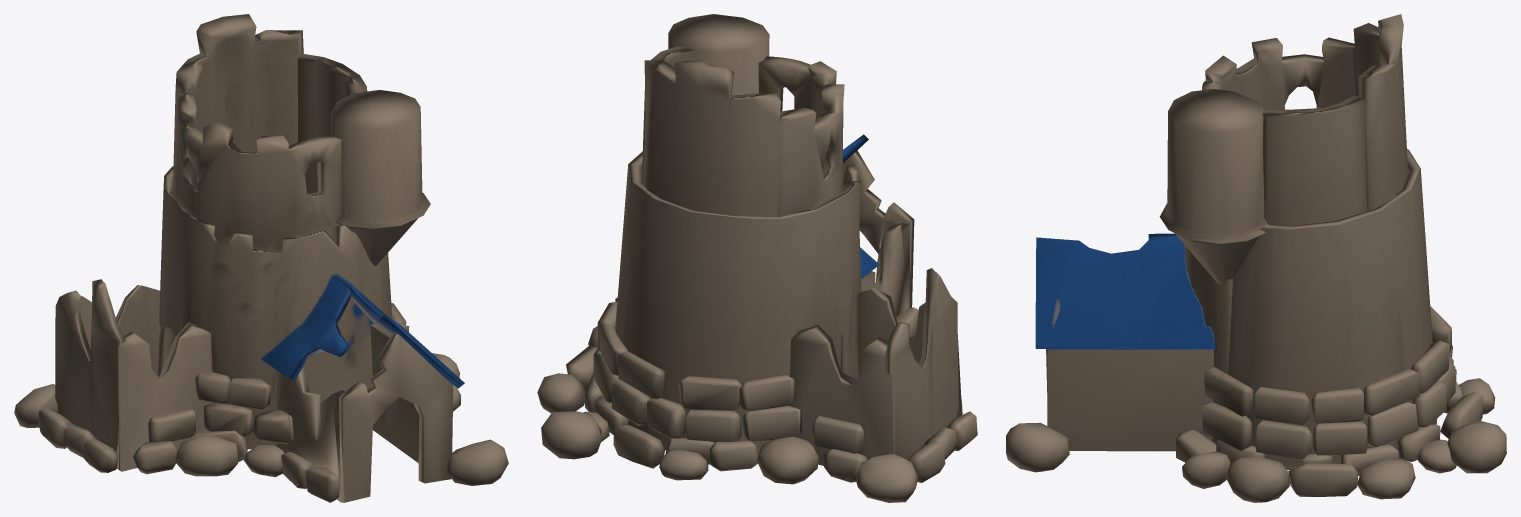
Rendered from meshy-c-d3b.glb.
3 renders of one model, left to right at view 1: azimuth 30°, elevation 25°; view 2: azimuth 150°, elevation 25°; view 3: azimuth 270°, elevation 25°, orthographic. The views are drawn at different scales.
Bounding box in the file's own units: 0.9412 × 0.8729 × 1.
Materials: 1 (1 with a texture image).
